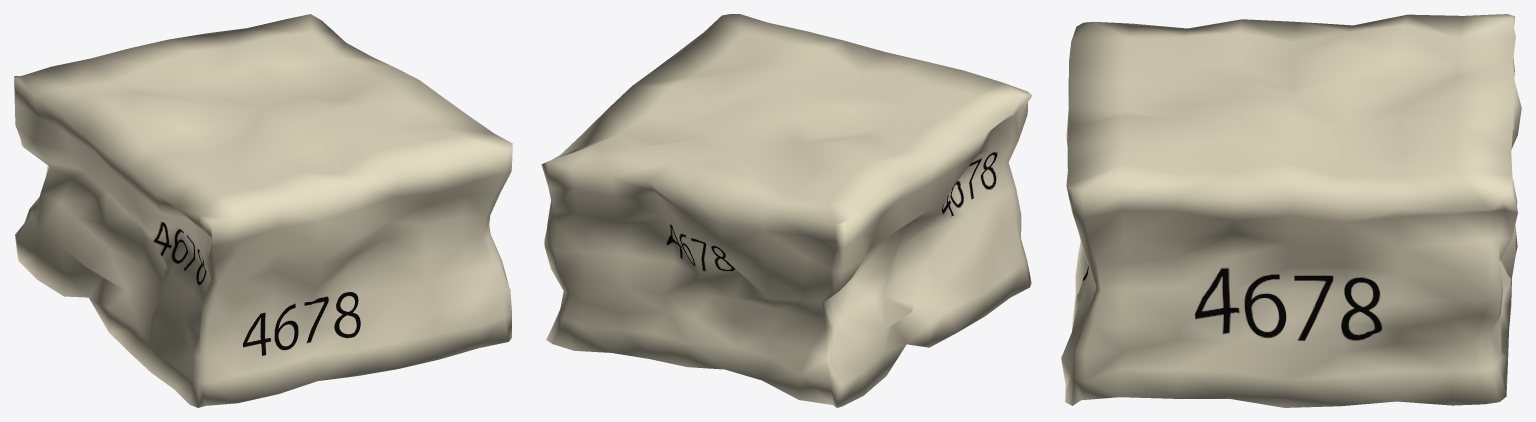
File: CTB_4678.dae
The picture shows the model from 3 angles, left to right: view 1: azimuth 30°, elevation 25°; view 2: azimuth 150°, elevation 25°; view 3: azimuth 270°, elevation 25°; orthographic projection. The views are drawn at different scales.
Visible parts, largest first — view 1: Cube; view 2: Cube; view 3: Cube.
Part boxes in pixels (x1=…): Cube: x1=14, y1=14, x2=512, y2=407; Cube: x1=541, y1=14, x2=1032, y2=407; Cube: x1=1061, y1=14, x2=1521, y2=407.
Size of the model in its own units: 1.85 by 2.05 by 1.18.
1 material, 1 textured.
